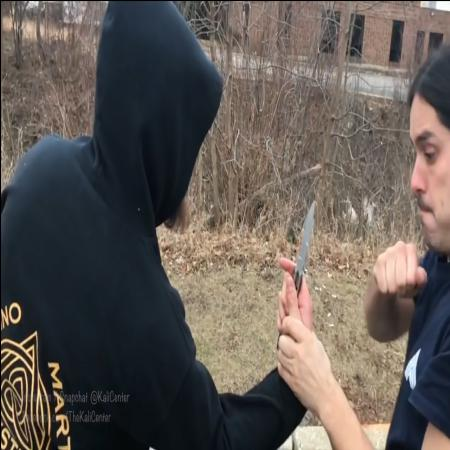long weapon: (273, 191, 321, 332)
